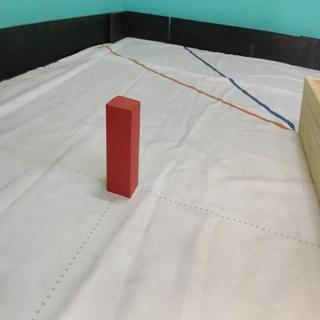redbox: (104, 95, 141, 198)
